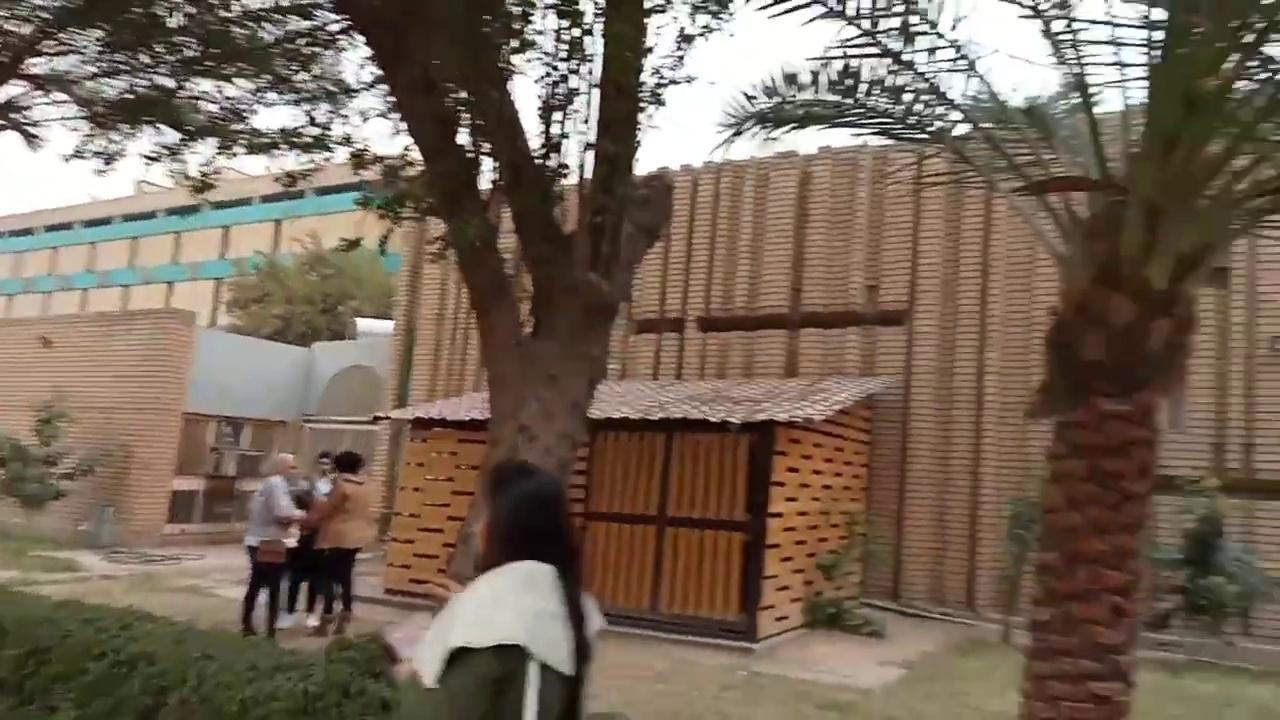person: (401, 457, 599, 718), (301, 450, 379, 635), (239, 451, 306, 638), (276, 449, 338, 629)
tree: (1, 1, 736, 715), (711, 1, 1278, 717), (328, 0, 732, 595), (218, 227, 398, 347), (0, 396, 123, 515)
